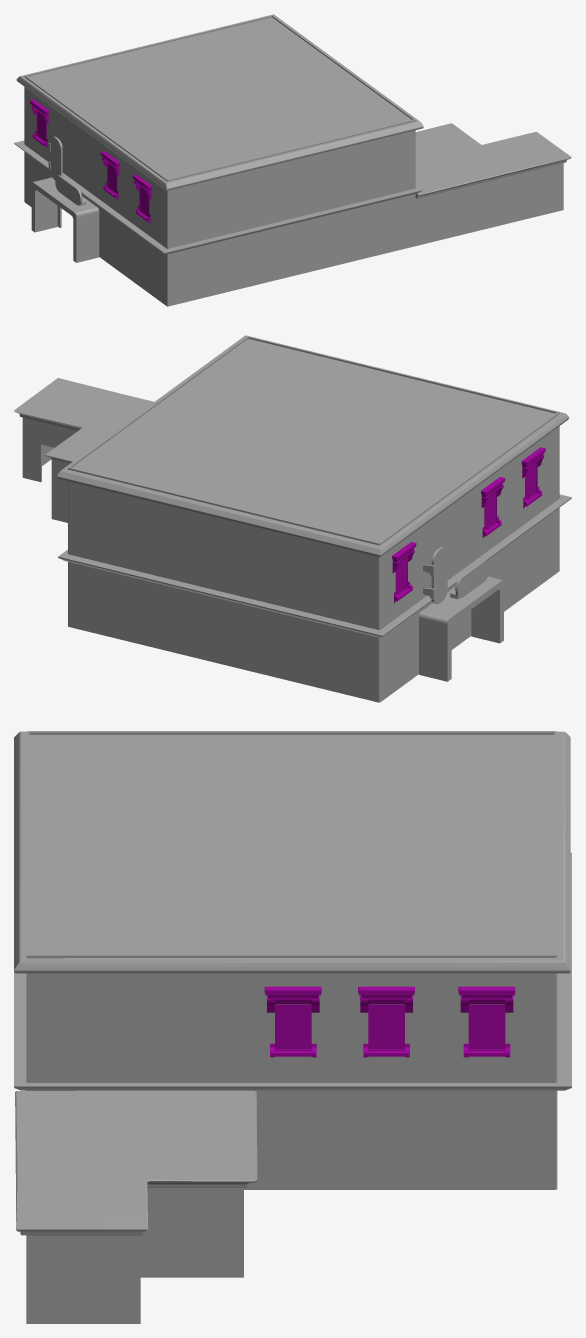
Rendered from First_Bar_Shell.fbx.
3 renders of one model, top to bottom at view 1: azimuth 30°, elevation 25°; view 2: azimuth 150°, elevation 25°; view 3: azimuth 270°, elevation 25°, orthographic. The views are drawn at different scales.
Parts seen in each view (by area): view 1: first_bar_shell, first_bar_roof, First_bar_Office_Roof, first_bar_Front_signs, First_Bar_Lower_crowning, window13, window14, window12; view 2: first_bar_shell, first_bar_roof, first_bar_Front_signs, First_bar_Office_Roof, First_Bar_Lower_crowning, window13, window14, window12; view 3: first_bar_roof, first_bar_shell, First_bar_Office_Roof, First_Bar_Lower_crowning, window15, window17, window16.
Boxes of the visible parts, x1,y1,x2,y2 form: first_bar_shell: [24, 15, 563, 306]; first_bar_roof: [16, 14, 423, 190]; First_bar_Office_Roof: [415, 123, 571, 198]; first_bar_Front_signs: [31, 136, 99, 262]; First_Bar_Lower_crowning: [14, 140, 422, 254]; window13: [100, 151, 119, 199]; window14: [132, 175, 152, 223]; window12: [29, 99, 49, 147]; first_bar_shell: [22, 336, 559, 702]; first_bar_roof: [57, 335, 569, 557]; first_bar_Front_signs: [419, 547, 503, 681]; First_bar_Office_Roof: [14, 378, 153, 463]; First_Bar_Lower_crowning: [58, 494, 571, 637]; window13: [481, 477, 505, 537]; window14: [521, 447, 545, 508]; window12: [392, 542, 416, 602]; first_bar_roof: [14, 731, 570, 973]; first_bar_shell: [26, 731, 557, 1323]; First_bar_Office_Roof: [15, 1090, 257, 1235]; First_Bar_Lower_crowning: [14, 852, 571, 1090]; window15: [458, 986, 515, 1057]; window17: [264, 986, 321, 1057]; window16: [358, 986, 414, 1057].
Bounding box in the file's own units: 86.04 × 24.45 × 52.76.
